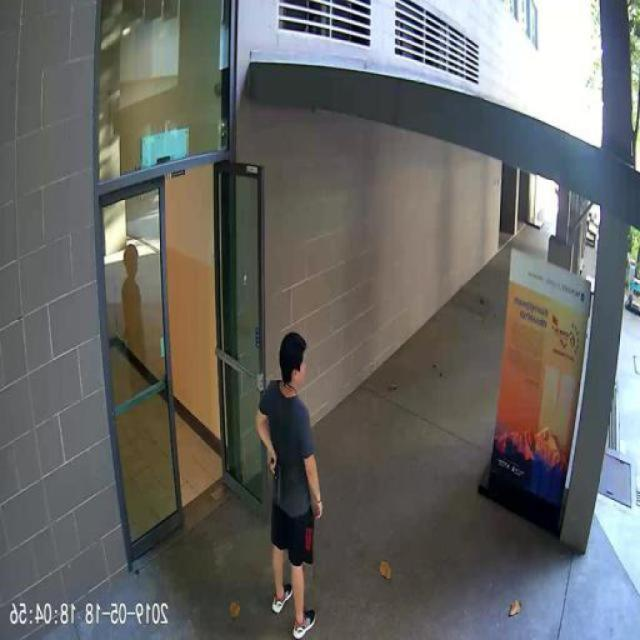pistol: (269, 455, 283, 503)
